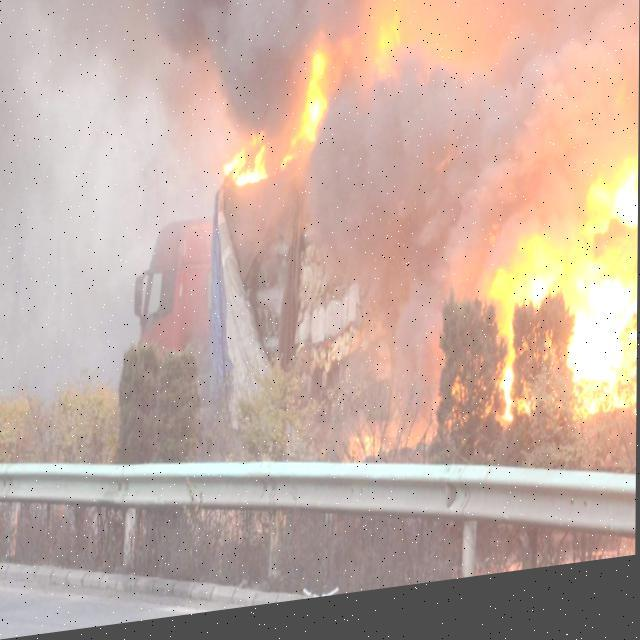Fire: (488, 172, 638, 446), (220, 16, 413, 196)
